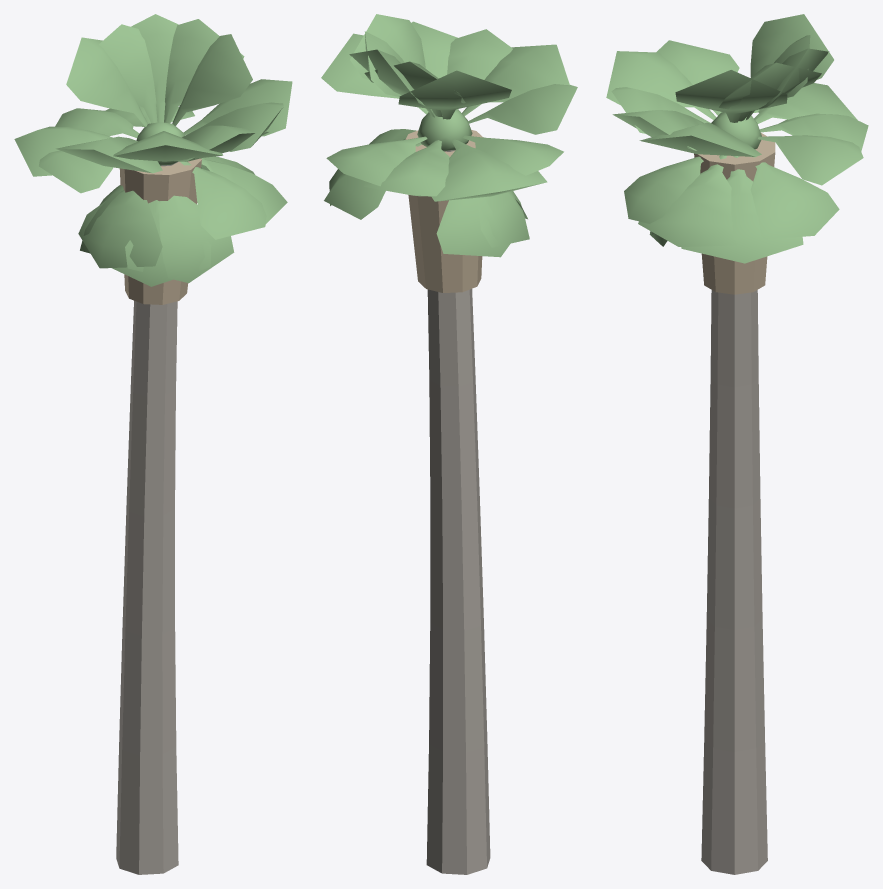
File: tree-palm-fan-a.glb
3 views of the same model, side by side, from view 1: azimuth 30°, elevation 25°; view 2: azimuth 150°, elevation 25°; view 3: azimuth 270°, elevation 25° (orthographic). The views are drawn at different scales.
Visible parts, largest first — view 1: tree-palm-fan-a; view 2: tree-palm-fan-a; view 3: tree-palm-fan-a.
Boxes of the visible parts, x1,y1,x2,y2 form: tree-palm-fan-a: (14,14,292,874); tree-palm-fan-a: (321,14,577,874); tree-palm-fan-a: (606,14,868,874).
Bounding box in the file's own units: 0.2906 × 1 × 0.2849.
